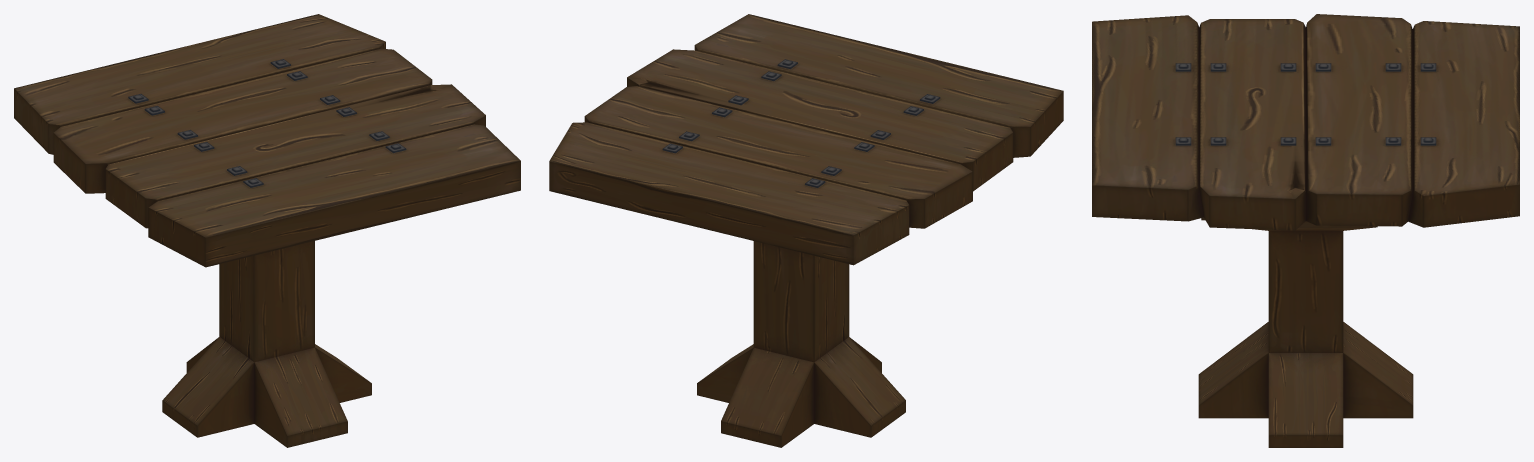
File: table_4d7f3c58.glb
The picture shows the model from 3 angles, left to right: view 1: azimuth 30°, elevation 25°; view 2: azimuth 150°, elevation 25°; view 3: azimuth 270°, elevation 25°; orthographic projection. The views are drawn at different scales.
Visible parts, largest first — view 1: Object_3, Object_2; view 2: Object_3, Object_2; view 3: Object_3, Object_2.
Part boxes in pixels (x1,y1,x2,y2): Object_3: (14,14,520,447); Object_2: (128,59,406,187); Object_3: (549,14,1063,447); Object_2: (662,59,940,187); Object_3: (1092,14,1519,447); Object_2: (1175,63,1436,145).
Bounding box in the file's own units: 116 × 87.46 × 113.
Materials: 2 (2 with a texture image).
